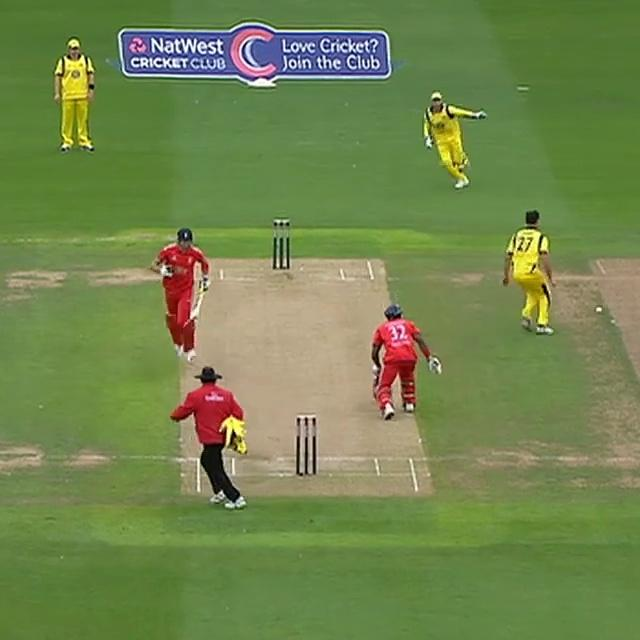umpire: (162, 359, 256, 510)
